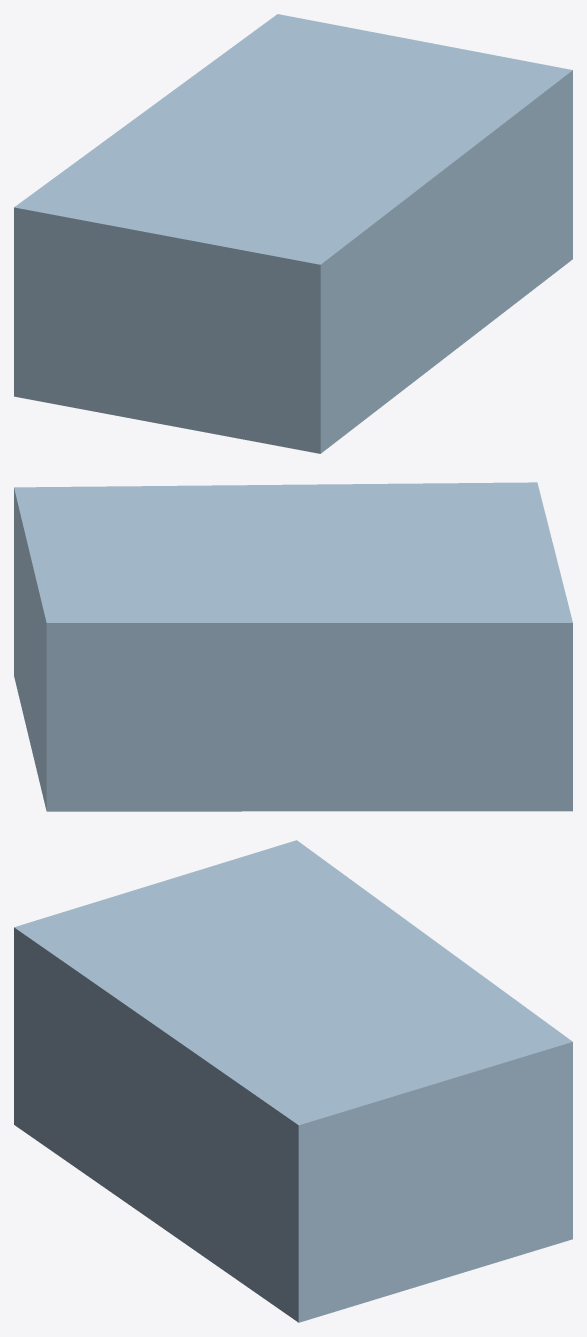
Rendered from njupt_k_dormitory_03.glb.
The picture shows the model from 3 angles, top to bottom: view 1: azimuth 30°, elevation 25°; view 2: azimuth 150°, elevation 25°; view 3: azimuth 270°, elevation 25°; orthographic projection. The views are drawn at different scales.
Parts seen in each view (by area): view 1: njupt_k_dormitory_03; view 2: njupt_k_dormitory_03; view 3: njupt_k_dormitory_03.
Boxes of the visible parts, box(x1,y1,x2,y2) form: njupt_k_dormitory_03: box(14, 14, 572, 453); njupt_k_dormitory_03: box(14, 482, 572, 811); njupt_k_dormitory_03: box(14, 840, 572, 1322).
Bounding box in the file's own units: 56.07 × 18.1 × 46.44.
